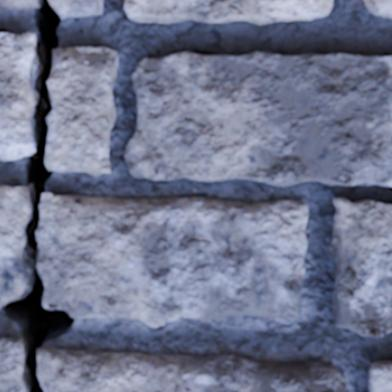brick: (125, 53, 391, 186), (330, 198, 391, 337), (125, 0, 332, 25), (370, 361, 391, 391), (364, 0, 391, 18)
broken_brick: (38, 192, 309, 328), (39, 348, 348, 391), (47, 47, 119, 177), (0, 31, 36, 161), (0, 185, 28, 309), (0, 336, 24, 391), (51, 0, 104, 20), (0, 0, 37, 9)
crack: (1, 0, 75, 391)
